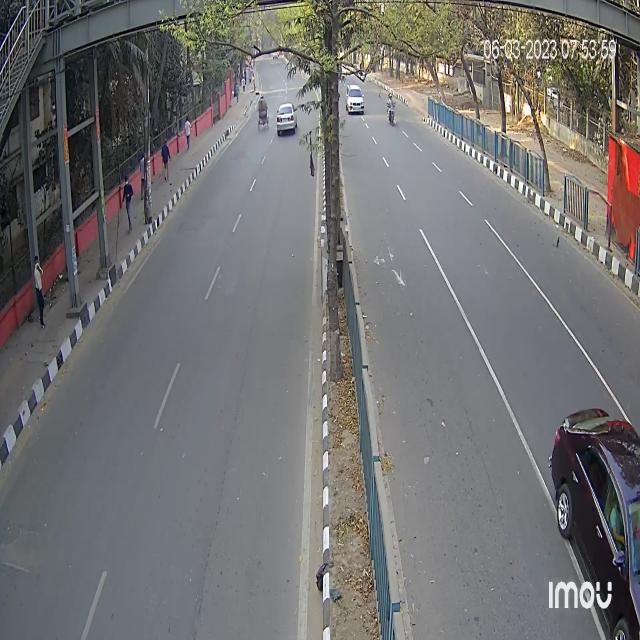rikshaw: (256, 93, 269, 127)
